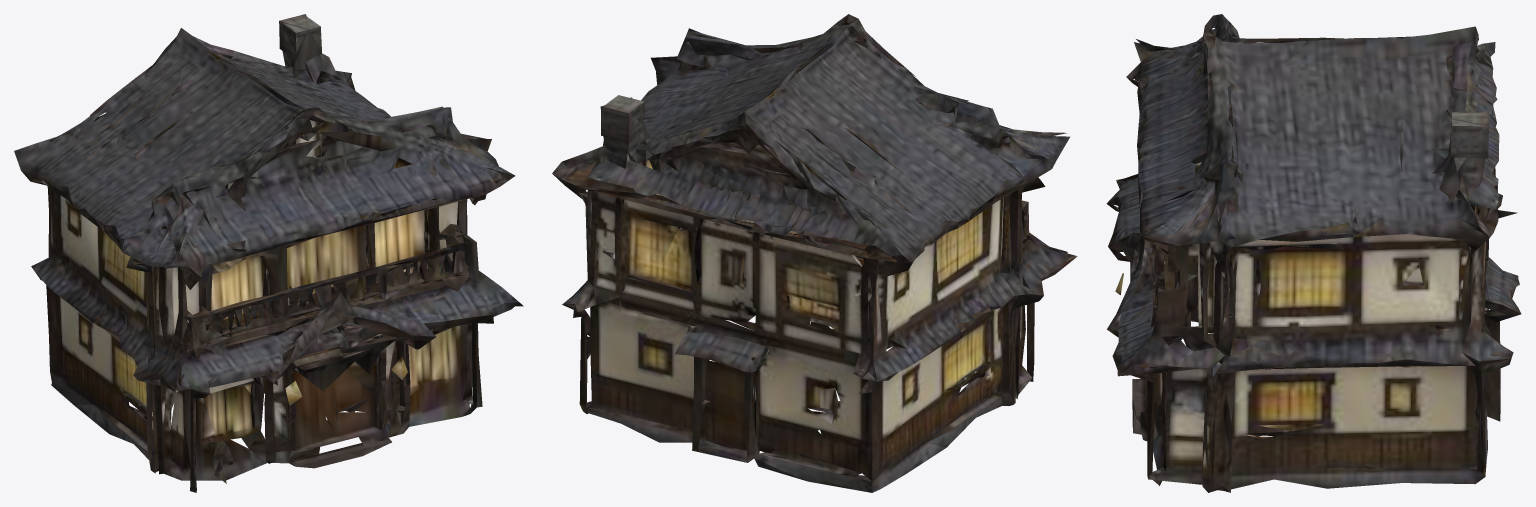
File: hotel_2.glb
3 renders of one model, left to right at view 1: azimuth 30°, elevation 25°; view 2: azimuth 150°, elevation 25°; view 3: azimuth 270°, elevation 25°, orthographic. The views are drawn at different scales.
Parts seen in each view (by area): view 1: compact__hotel_2__neural_lod; view 2: compact__hotel_2__neural_lod; view 3: compact__hotel_2__neural_lod.
Part boxes in pixels (x1,y1,x2,y2): compact__hotel_2__neural_lod: (14, 14, 523, 492); compact__hotel_2__neural_lod: (552, 14, 1077, 492); compact__hotel_2__neural_lod: (1106, 14, 1521, 492).
Bounding box in the file's own units: 0.9608 × 0.8148 × 0.7965.
Materials: 1 (1 with a texture image).
